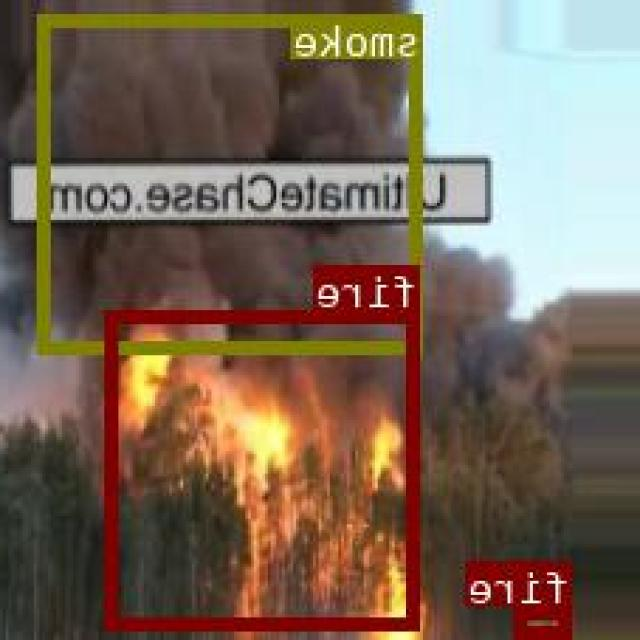fire: (108, 307, 421, 628), (519, 605, 575, 634)
smoke: (42, 14, 426, 352)
